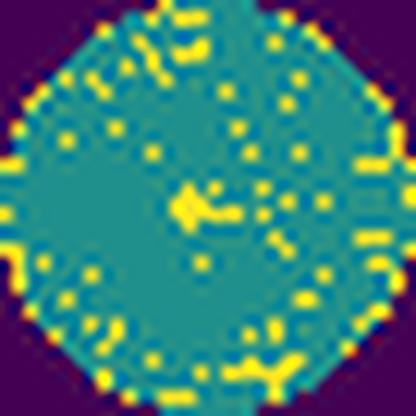Center: (164, 176, 248, 238)
